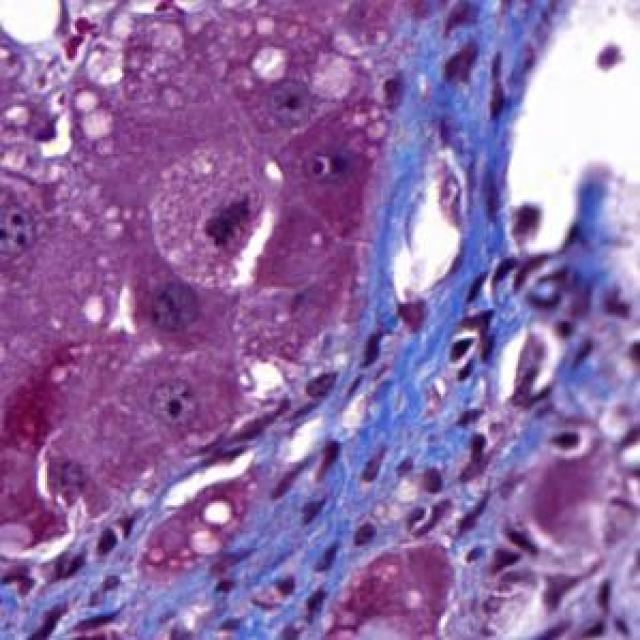inflammation: (477, 520, 550, 574), (445, 326, 486, 370)
